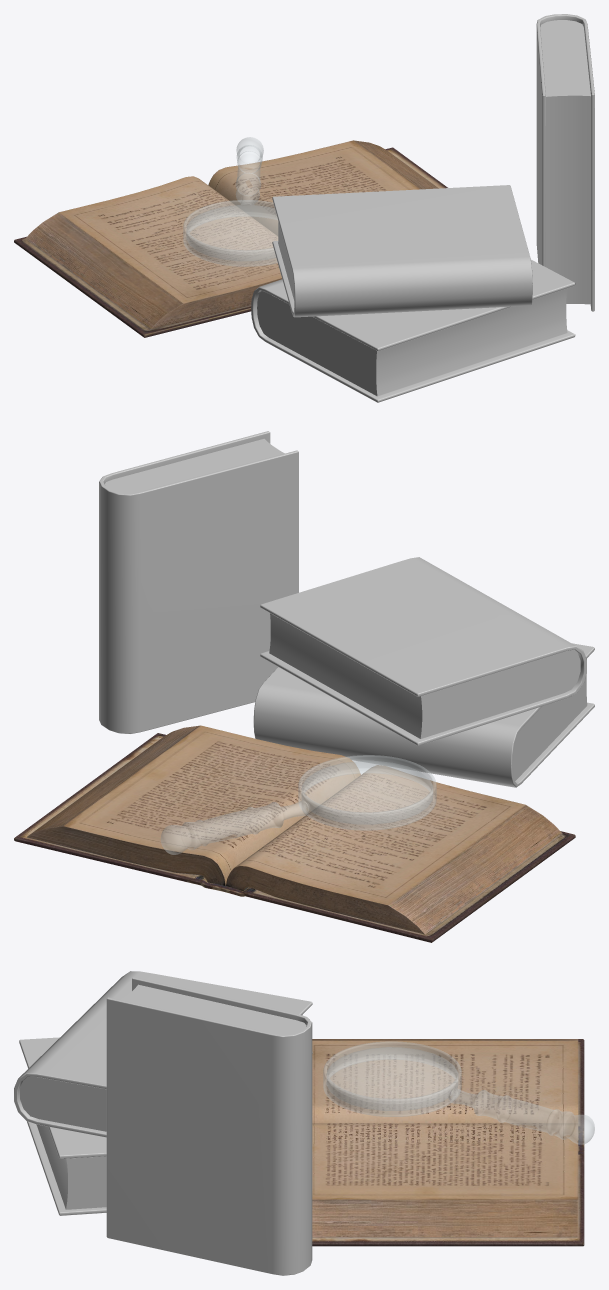
The picture shows the model from 3 angles, top to bottom: view 1: azimuth 30°, elevation 25°; view 2: azimuth 150°, elevation 25°; view 3: azimuth 270°, elevation 25°; orthographic projection. The views are drawn at different scales.
Visible parts, largest first — view 1: Open_book, Book_3, Book_1, Book_2, Magnifier; view 2: Open_book, Book_2, Book_3, Book_1, Magnifier; view 3: Open_book, Book_2, Magnifier, Book_3, Book_1.
Part boxes in pixels (left/top/right/bottom): Open_book: left=14, top=140, right=447, bottom=337; Book_3: left=272, top=185, right=532, bottom=317; Book_1: left=251, top=259, right=575, bottom=402; Book_2: left=536, top=14, right=594, bottom=311; Magnifier: left=183, top=137, right=277, bottom=266; Open_book: left=14, top=725, right=575, bottom=942; Book_2: left=99, top=431, right=298, bottom=733; Book_3: left=260, top=557, right=586, bottom=745; Book_1: left=253, top=643, right=594, bottom=787; Magnifier: left=161, top=755, right=436, bottom=854; Open_book: left=312, top=1039, right=584, bottom=1246; Book_2: left=106, top=977, right=312, bottom=1275; Magnifier: left=323, top=1041, right=594, bottom=1144; Book_3: left=14, top=971, right=312, bottom=1137; Book_1: left=19, top=1037, right=106, bottom=1215.
Size of the model in its own units: 0.4027 by 0.1928 by 0.4216.
